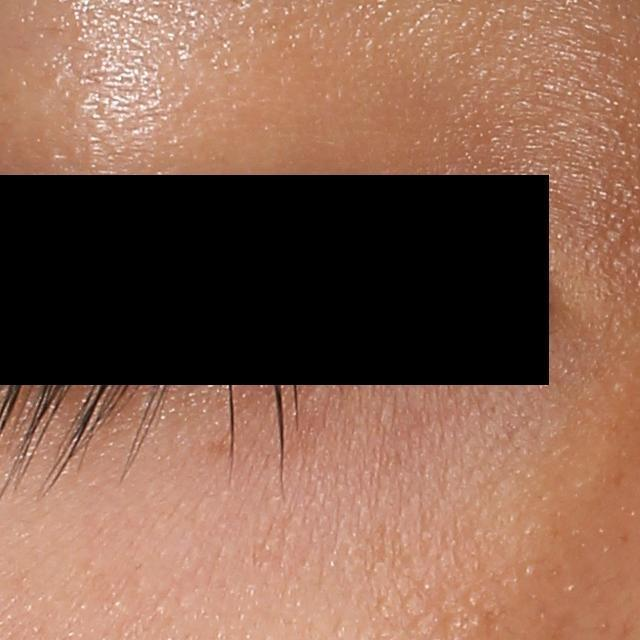melasma: (189, 433, 239, 464)
